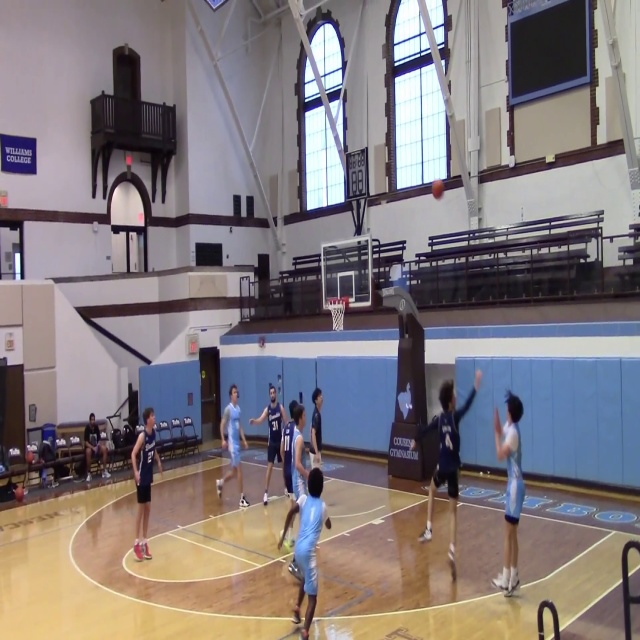Basketball: (432, 180, 444, 199), (497, 446, 510, 461), (14, 486, 24, 501), (25, 451, 34, 463), (221, 441, 227, 450)
